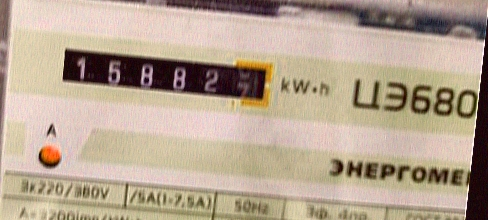1: (74, 54, 91, 81)
2: (203, 67, 221, 92)
5: (106, 57, 124, 84)
7: (236, 78, 252, 99)
8: (138, 61, 157, 89), (171, 64, 189, 91)
screen: (46, 31, 285, 119)
